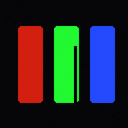4 line_v: (74, 46, 76, 102)
